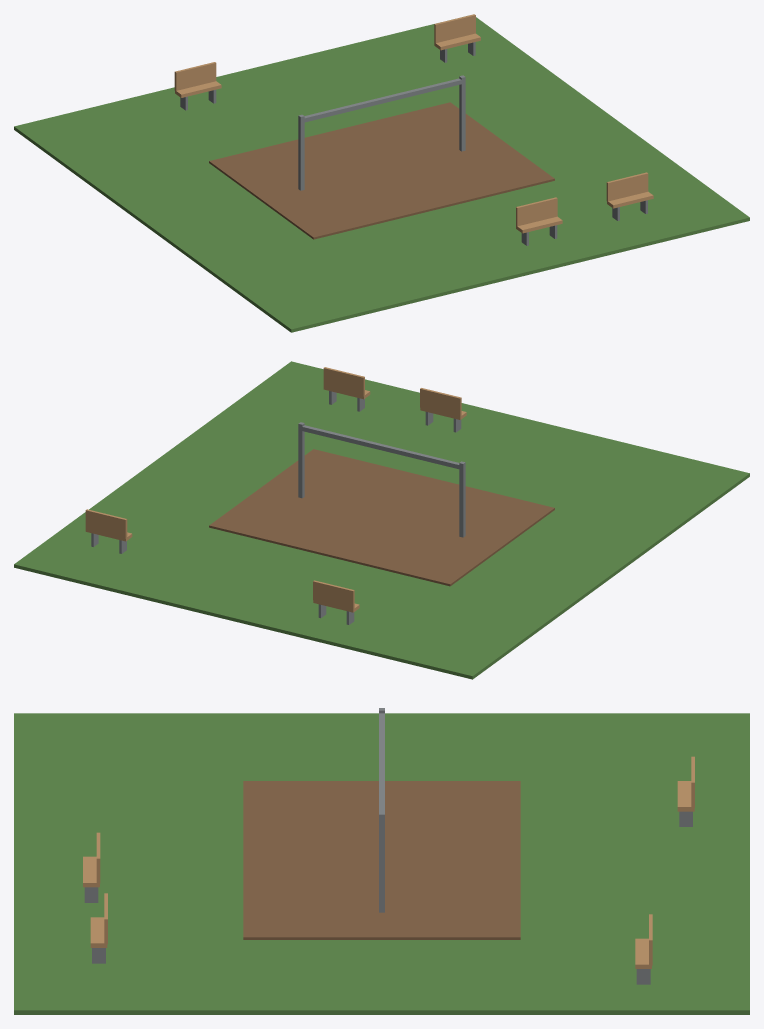
Rendered from Park_005.glb.
The picture shows the model from 3 angles, top to bottom: view 1: azimuth 30°, elevation 25°; view 2: azimuth 150°, elevation 25°; view 3: azimuth 270°, elevation 25°; orthographic projection. The views are drawn at different scales.
Visible parts, largest first — view 1: Park_005; view 2: Park_005; view 3: Park_005.
Part boxes in pixels (box(x1,y1,x2,y2)): Park_005: box(14, 14, 749, 332); Park_005: box(14, 361, 749, 679); Park_005: box(14, 708, 749, 1014).
Bounding box in the file's own units: 22.82 × 3.76 × 23.89.
